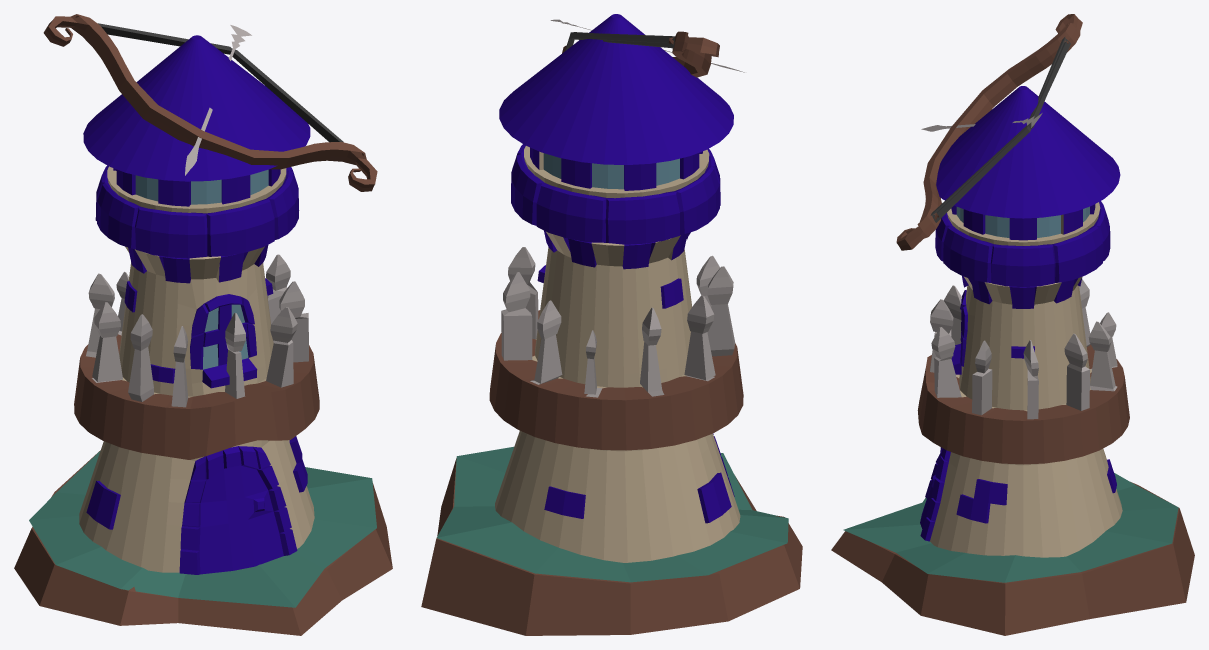
File: ok_kule_su.fbx
3 renders of one model, left to right at view 1: azimuth 30°, elevation 25°; view 2: azimuth 150°, elevation 25°; view 3: azimuth 270°, elevation 25°, orthographic. The views are drawn at different scales.
Parts seen in each view (by area): view 1: Cylinder.021, cımen.020, Circle.019, Plane.012, Plane.014; view 2: Cylinder.021, Circle.019, cımen.020, Plane.012; view 3: Cylinder.021, Circle.019, cımen.020, Plane.012.
Part boxes in pixels (bbox=[...]): Cylinder.021: bbox=[74, 35, 319, 574]; cımen.020: bbox=[29, 451, 376, 607]; Circle.019: bbox=[14, 450, 392, 635]; Plane.012: bbox=[43, 14, 377, 191]; Plane.014: bbox=[185, 25, 251, 175]; Cylinder.021: bbox=[489, 14, 743, 562]; Circle.019: bbox=[421, 458, 802, 635]; cımen.020: bbox=[436, 446, 788, 582]; Plane.012: bbox=[562, 31, 719, 77]; Cylinder.021: bbox=[917, 86, 1129, 557]; Circle.019: bbox=[831, 482, 1194, 635]; cımen.020: bbox=[843, 473, 1178, 582]; Plane.012: bbox=[896, 14, 1082, 250].
Bounding box in the file's own units: 488 × 747 × 496.
